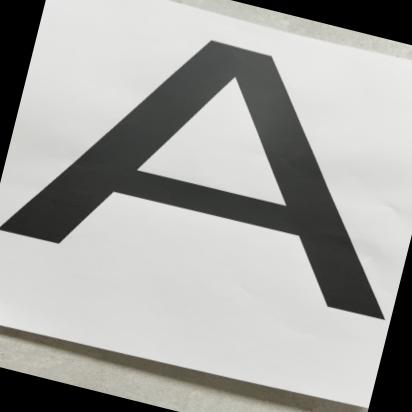seat: (21, 8, 412, 350)
